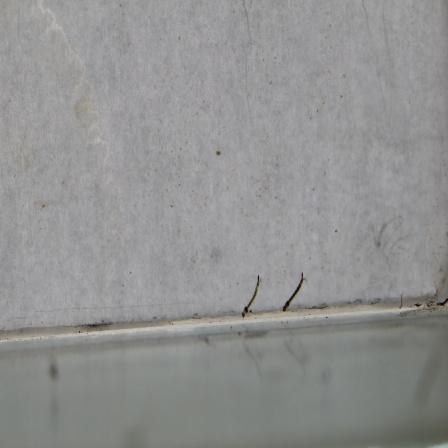Jentik-Nyamuk: (281, 272, 308, 312), (240, 274, 263, 318)
